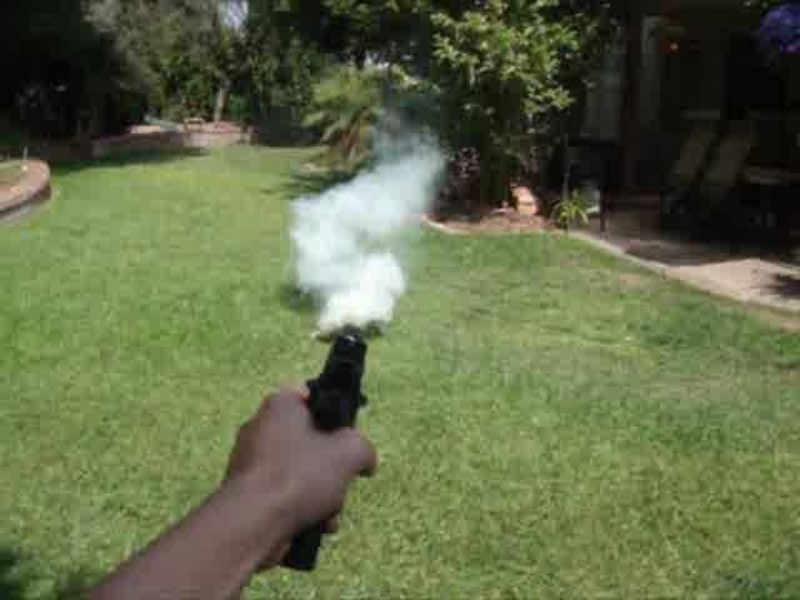smoke: (291, 177, 403, 328)
